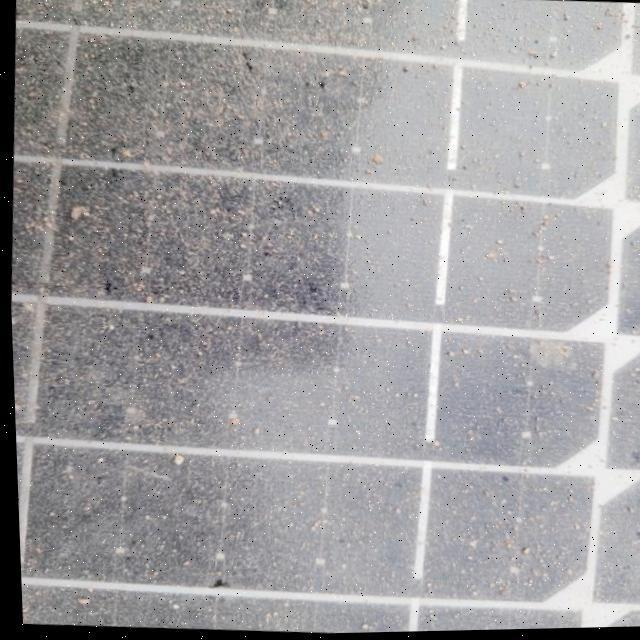Anomaly Solar Panel: (0, 0, 640, 640)
Surface Contaminant: (16, 0, 640, 635)
